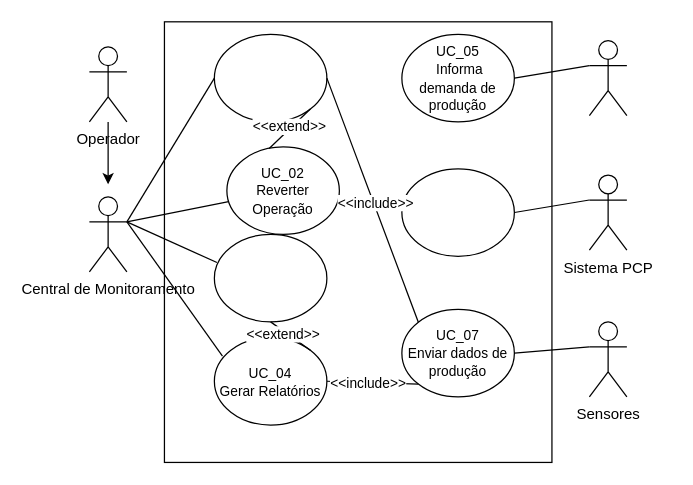
The diagram is 693 pixels wide and 485 high, and some of its shapes have lost their labels. Here are the shapes that lost their labels. From the top down, the box of each, then its label:
(213, 33, 327, 122): UC_01 Monitorar Operação
(588, 39, 627, 116): Sistema Comercial
(401, 168, 514, 256): UC_06 Enviar ordens de produção
(213, 233, 327, 322): UC_03 Liberar Caminhões
